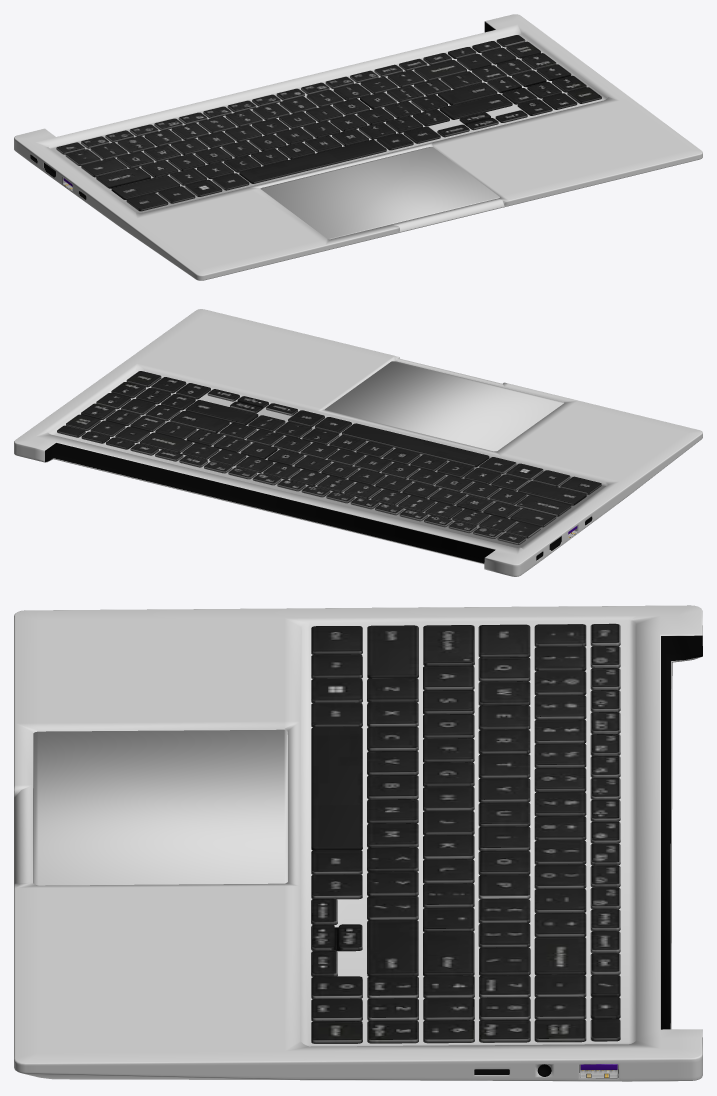
3 renders of one model, top to bottom at view 1: azimuth 30°, elevation 25°; view 2: azimuth 150°, elevation 25°; view 3: azimuth 270°, elevation 25°, orthographic. The views are drawn at different scales.
Visible parts, largest first — view 1: Plane, Plane.012; view 2: Plane, Plane.012; view 3: Plane, Plane.012.
Boxes of the visible parts, bbox=[...] form: Plane: bbox=[14, 14, 702, 280]; Plane.012: bbox=[56, 35, 601, 211]; Plane: bbox=[14, 309, 702, 576]; Plane.012: bbox=[57, 371, 601, 544]; Plane: bbox=[14, 605, 702, 1081]; Plane.012: bbox=[311, 623, 620, 1043].
Bounding box in the file's own units: 0.3053 × 0.0116 × 0.196.
8 materials, 1 textured.
